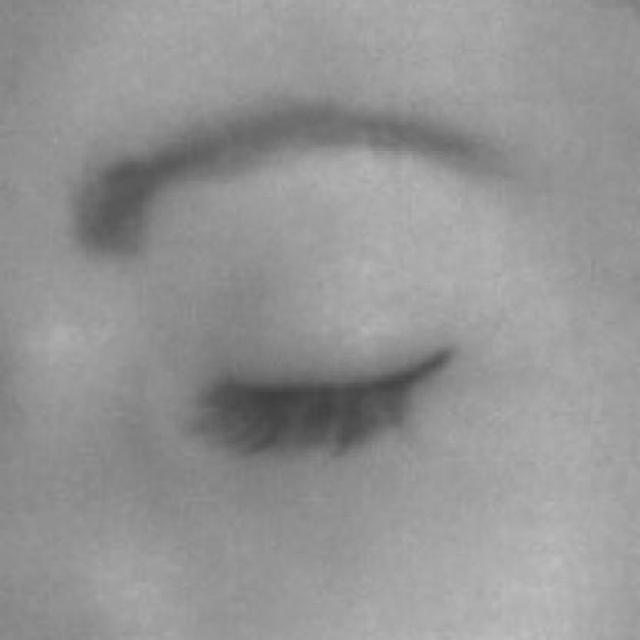drowsy: (202, 275, 462, 554)
